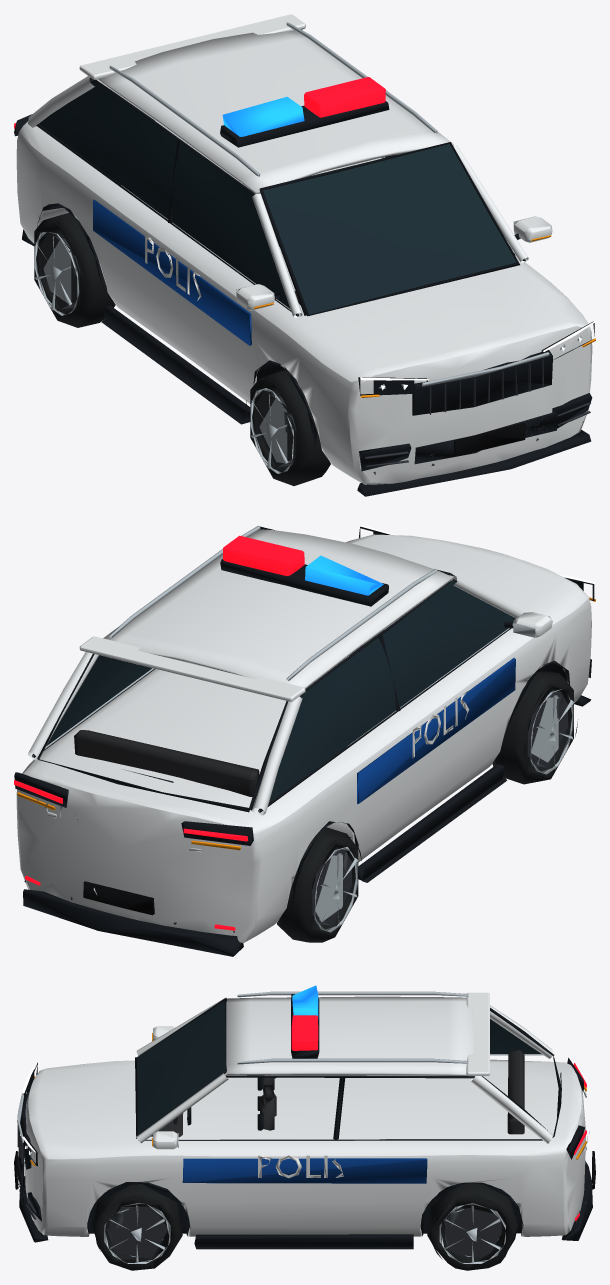
File: police-far.glb
3 renders of one model, top to bottom at view 1: azimuth 30°, elevation 25°; view 2: azimuth 150°, elevation 25°; view 3: azimuth 270°, elevation 25°, orthographic. The views are drawn at different scales.
Visible parts, largest first — view 1: chassis.001__Automotive clearcoat, chassis.001__Solar glass, chassis.001__Satin black trim, chassis.001__Police blue, wheel_RL.001__Tyre rubber, wheel_FL.001__Tyre rubber, chassis.001__Machined aluminium, chassis.001__Red LED optics, chassis.001__Police blue LED, wheel_RL.001__Machined aluminium, wheel_FL.001__Machined aluminium, chassis.001__Black registration plate (+4 smaller); view 2: chassis.001__Automotive clearcoat, chassis.001__Solar glass, chassis.001__Satin black trim, chassis.001__Charcoal upholstery, chassis.001__Police blue, wheel_RL.001__Tyre rubber, wheel_FL.001__Tyre rubber, chassis.001__Red LED optics, chassis.001__Machined aluminium, wheel_RL.001__Machined aluminium, wheel_FL.001__Machined aluminium, chassis.001__Police blue LED (+4 smaller); view 3: chassis.001__Automotive clearcoat, chassis.001__Satin black trim, chassis.001__Solar glass, chassis.001__Police blue, wheel_RR.001__Tyre rubber, wheel_FR.001__Tyre rubber, chassis.001__Machined aluminium, wheel_FR.001__Graphite alloy, chassis.001__Charcoal upholstery, wheel_RR.001__Graphite alloy, chassis.001__Red LED optics, wheel_FR.001__Machined aluminium (+3 smaller).
Boxes of the visible parts, box(x1,y1,x2,y2) form: chassis.001__Automotive clearcoat: box(16, 14, 592, 484); chassis.001__Solar glass: box(39, 81, 516, 314); chassis.001__Satin black trim: box(14, 77, 594, 496); chassis.001__Police blue: box(93, 199, 251, 345); wheel_RL.001__Tyre rubber: box(34, 213, 115, 327); wheel_FL.001__Tyre rubber: box(246, 370, 330, 485); chassis.001__Machined aluminium: box(109, 22, 581, 389); chassis.001__Red LED optics: box(14, 77, 385, 128); chassis.001__Police blue LED: box(222, 96, 304, 136); wheel_RL.001__Machined aluminium: box(34, 232, 79, 315); wheel_FL.001__Machined aluminium: box(250, 388, 293, 473); chassis.001__Black registration plate: box(454, 423, 525, 456); chassis.001__Automotive clearcoat: box(16, 529, 591, 943); chassis.001__Solar glass: box(46, 580, 515, 808); chassis.001__Satin black trim: box(14, 526, 594, 956); chassis.001__Charcoal upholstery: box(74, 616, 402, 796); chassis.001__Police blue: box(357, 658, 515, 804); wheel_RL.001__Tyre rubber: box(277, 827, 361, 942); wheel_FL.001__Tyre rubber: box(492, 671, 578, 784); chassis.001__Red LED optics: box(14, 535, 304, 930); chassis.001__Machined aluminium: box(32, 525, 535, 824); wheel_RL.001__Machined aluminium: box(314, 847, 358, 932); wheel_FL.001__Machined aluminium: box(530, 689, 574, 774); chassis.001__Police blue LED: box(305, 555, 383, 595); chassis.001__Automotive clearcoat: box(24, 992, 585, 1236); chassis.001__Satin black trim: box(17, 994, 592, 1249); chassis.001__Solar glass: box(137, 1000, 540, 1135); chassis.001__Police blue: box(182, 1158, 427, 1183); wheel_RR.001__Tyre rubber: box(427, 1183, 517, 1270); wheel_FR.001__Tyre rubber: box(92, 1184, 182, 1270); chassis.001__Machined aluminium: box(17, 991, 589, 1156); wheel_FR.001__Graphite alloy: box(107, 1206, 167, 1258); chassis.001__Charcoal upholstery: box(151, 1050, 524, 1137); wheel_RR.001__Graphite alloy: box(443, 1208, 501, 1257); chassis.001__Red LED optics: box(291, 1015, 586, 1221); wheel_FR.001__Machined aluminium: box(104, 1203, 170, 1263).
Bounding box in the file's own units: 2.17 × 1.85 × 4.63.
